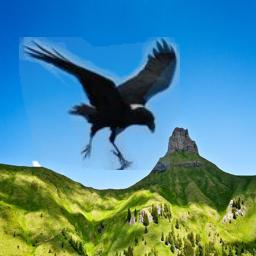Crow: (19, 37, 180, 170)
